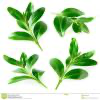Blueberry leaf: (47, 54, 67, 80), (28, 4, 45, 32), (53, 14, 70, 41), (6, 30, 35, 45), (23, 49, 39, 74), (59, 70, 92, 82), (31, 19, 48, 42), (59, 6, 90, 17), (1, 53, 22, 69), (6, 6, 24, 24), (32, 64, 46, 86), (72, 14, 99, 24), (69, 18, 83, 35)
